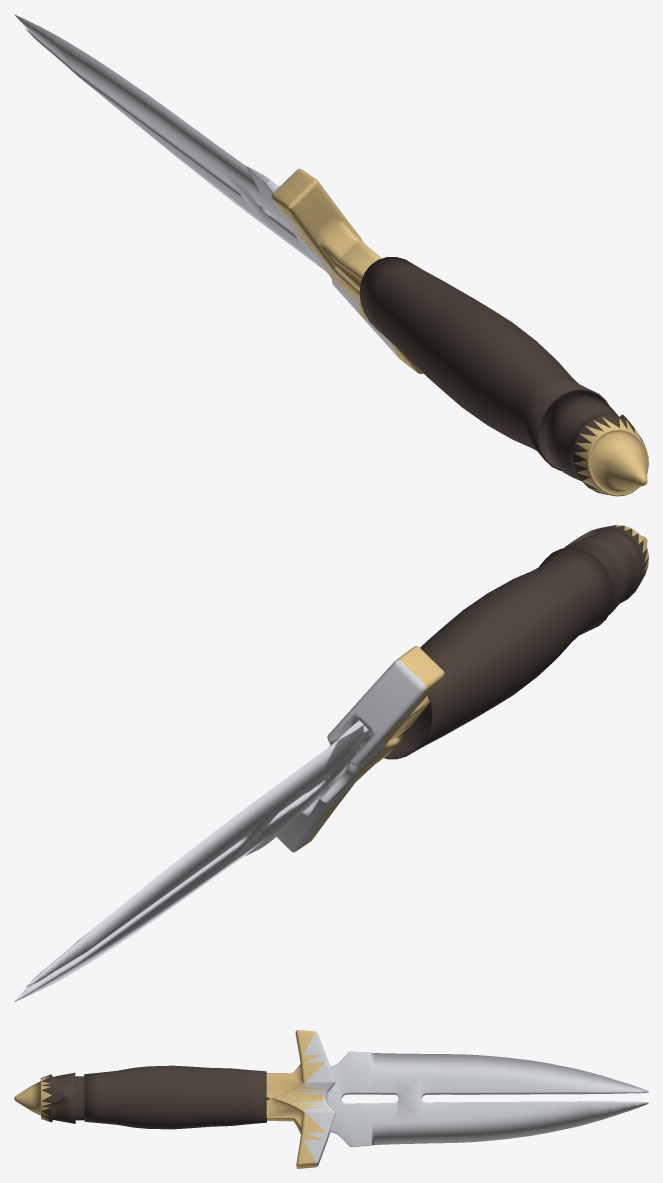
File: w_hancer.glb
3 renders of one model, top to bottom at view 1: azimuth 30°, elevation 25°; view 2: azimuth 150°, elevation 25°; view 3: azimuth 270°, elevation 25°, orthographic. The views are drawn at different scales.
Visible parts, largest first — view 1: body; view 2: body; view 3: body.
Boxes of the visible parts, bbox=[...] form: body: bbox=[14, 14, 648, 496]; body: bbox=[14, 525, 648, 1001]; body: bbox=[14, 1030, 648, 1168].
Bounding box in the file's own units: 0.0478 × 0.0622 × 0.32.
